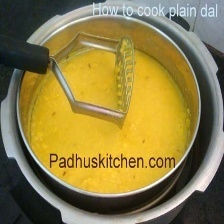dal: (27, 41, 190, 195)
